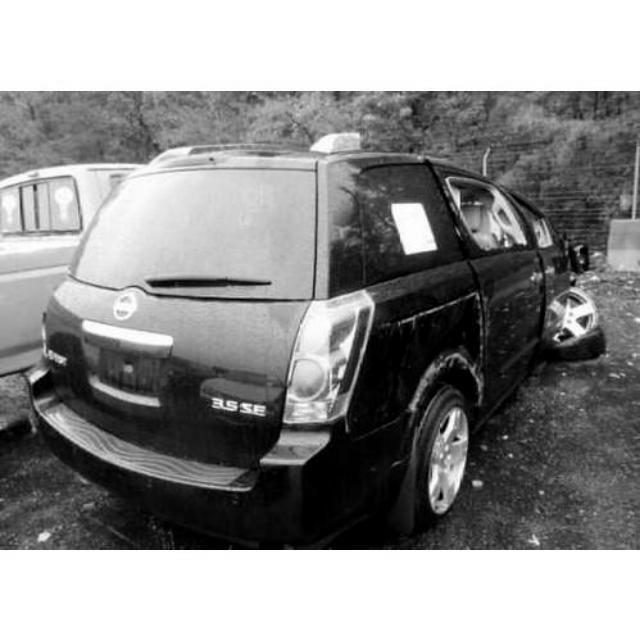quaterpanel-dent: (370, 264, 485, 394)
